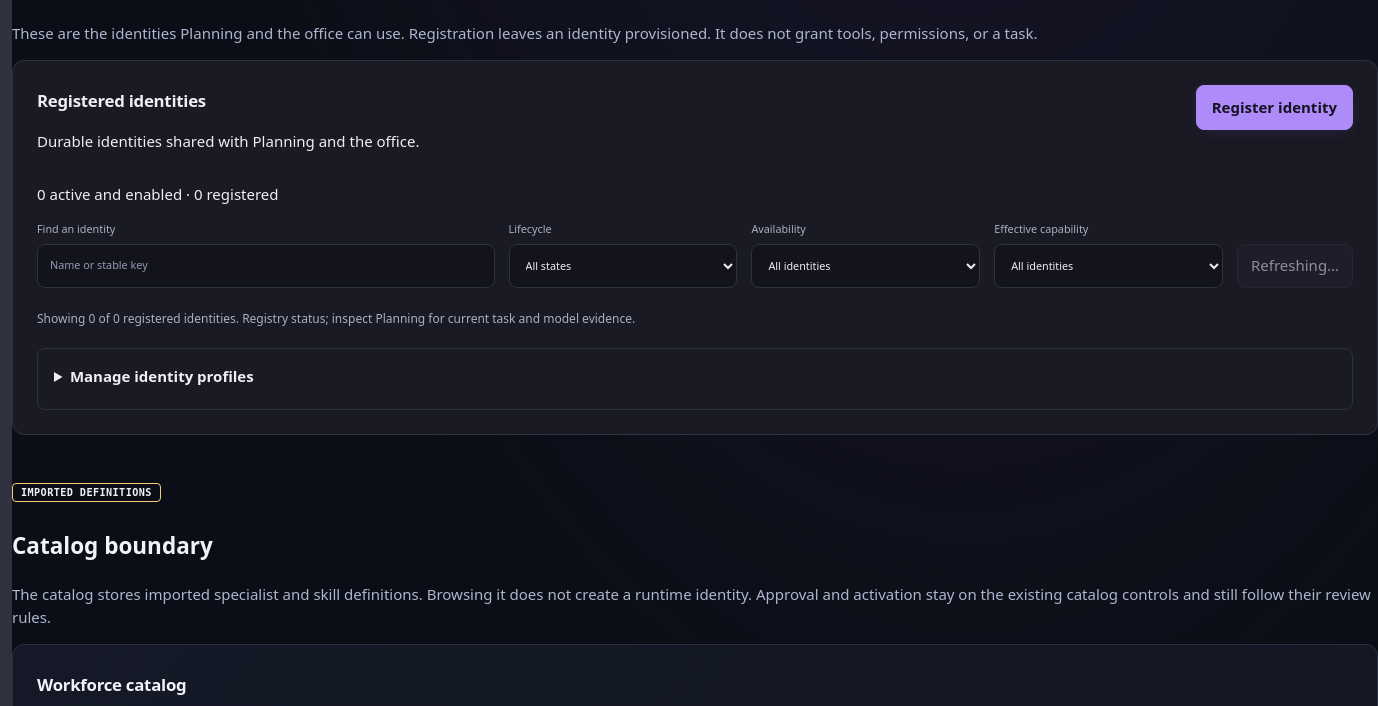
Test: durable workforce › unknown registration acknowledgement recovers by unique key without duplicate writes
The width and height of the screenshot is (1378, 706).
(page scrolled)
Click the heading "Manage identity profiles" at (162, 376), box [70,366,254,386]
(page scrolled)
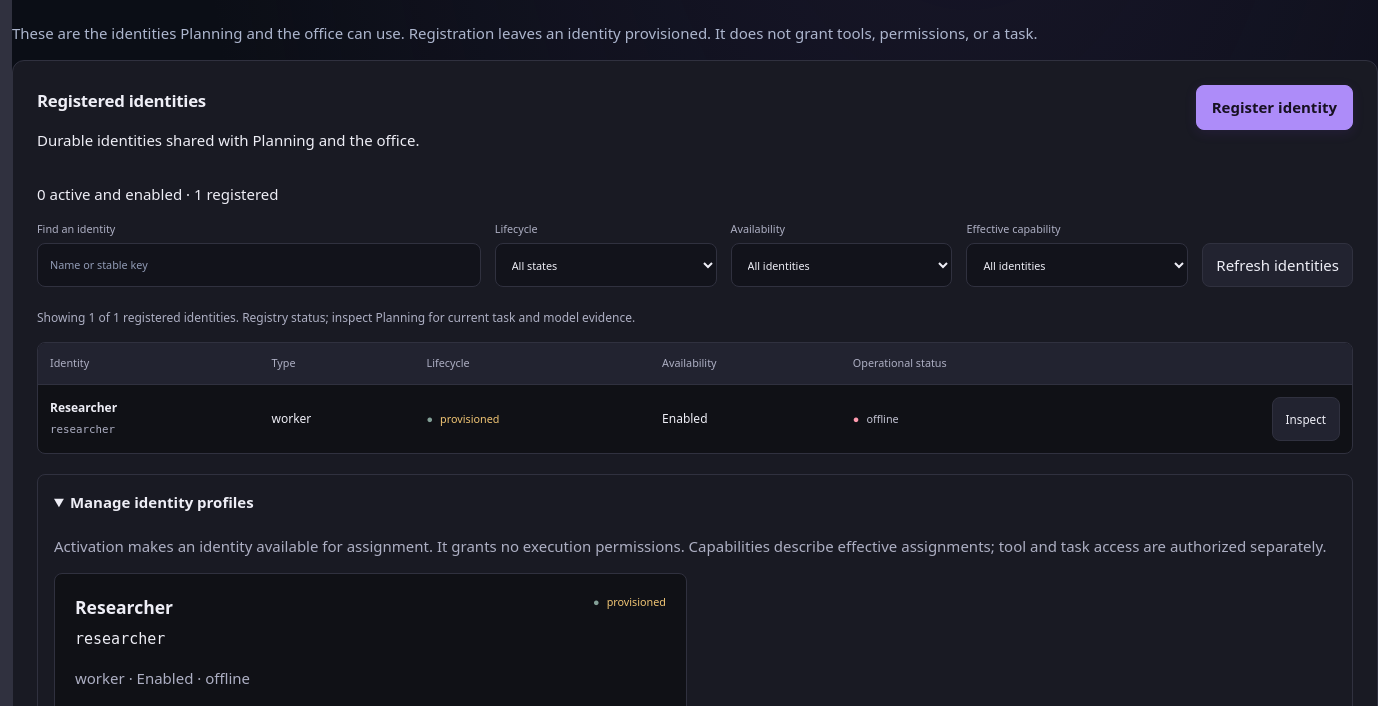
Click the button "Register identity" at (1274, 108), box [1196,85,1353,130]
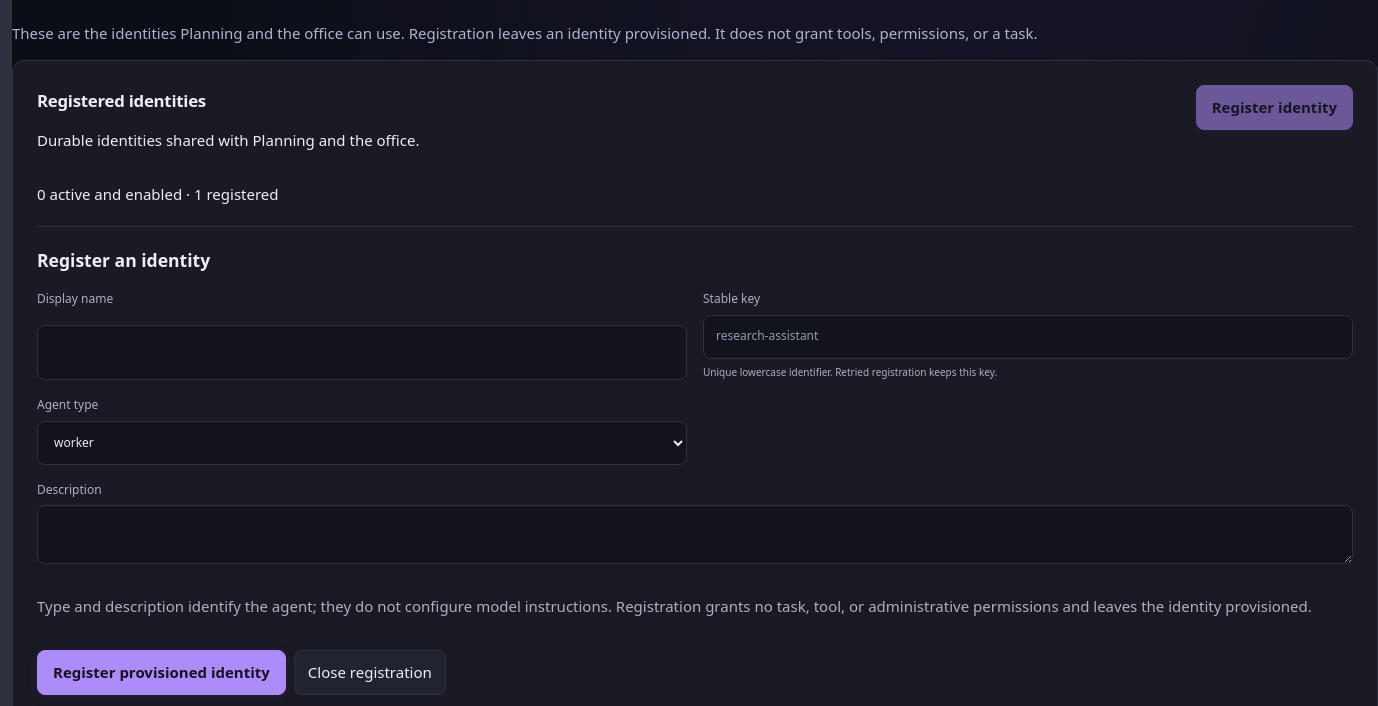
Type "Analyst" into the field labelled "Display name" at (362, 353), box [37,325,687,380]
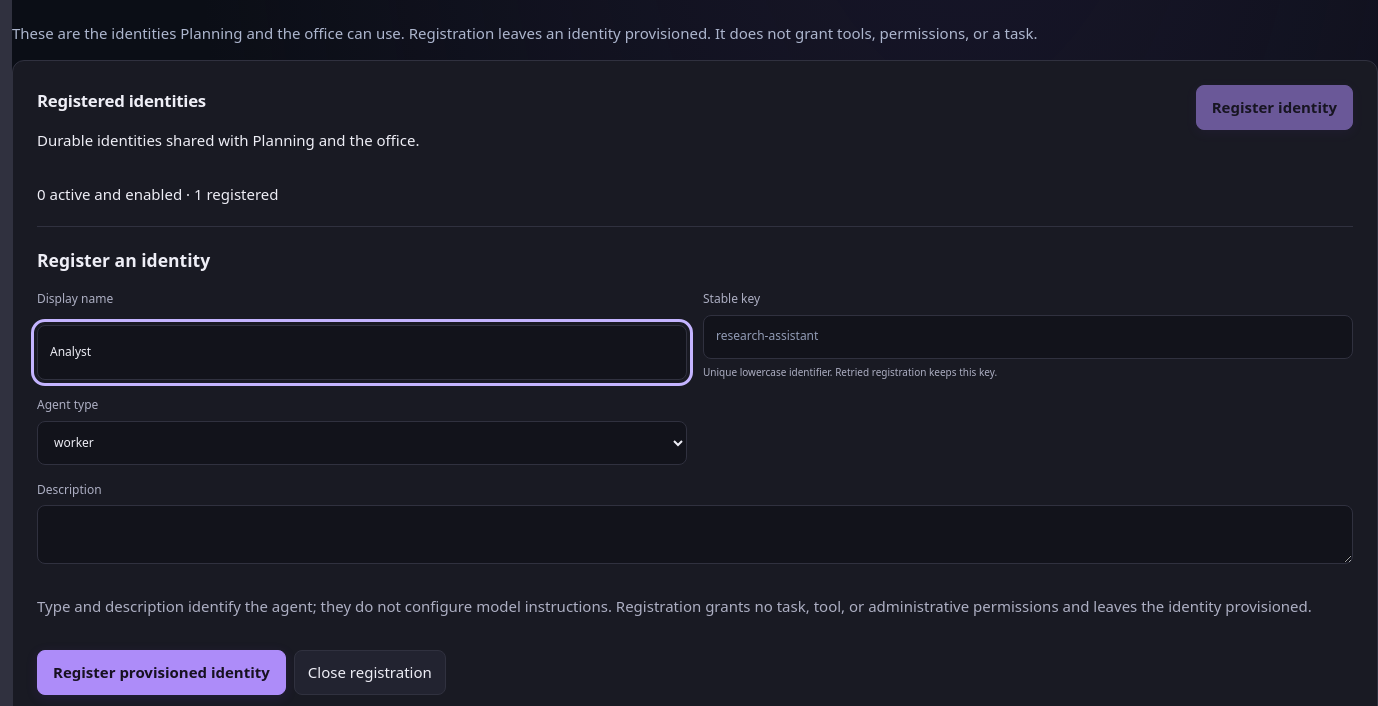
Type "analyst" into the field labelled "Stable key" at (1028, 336), box [703,314,1353,358]
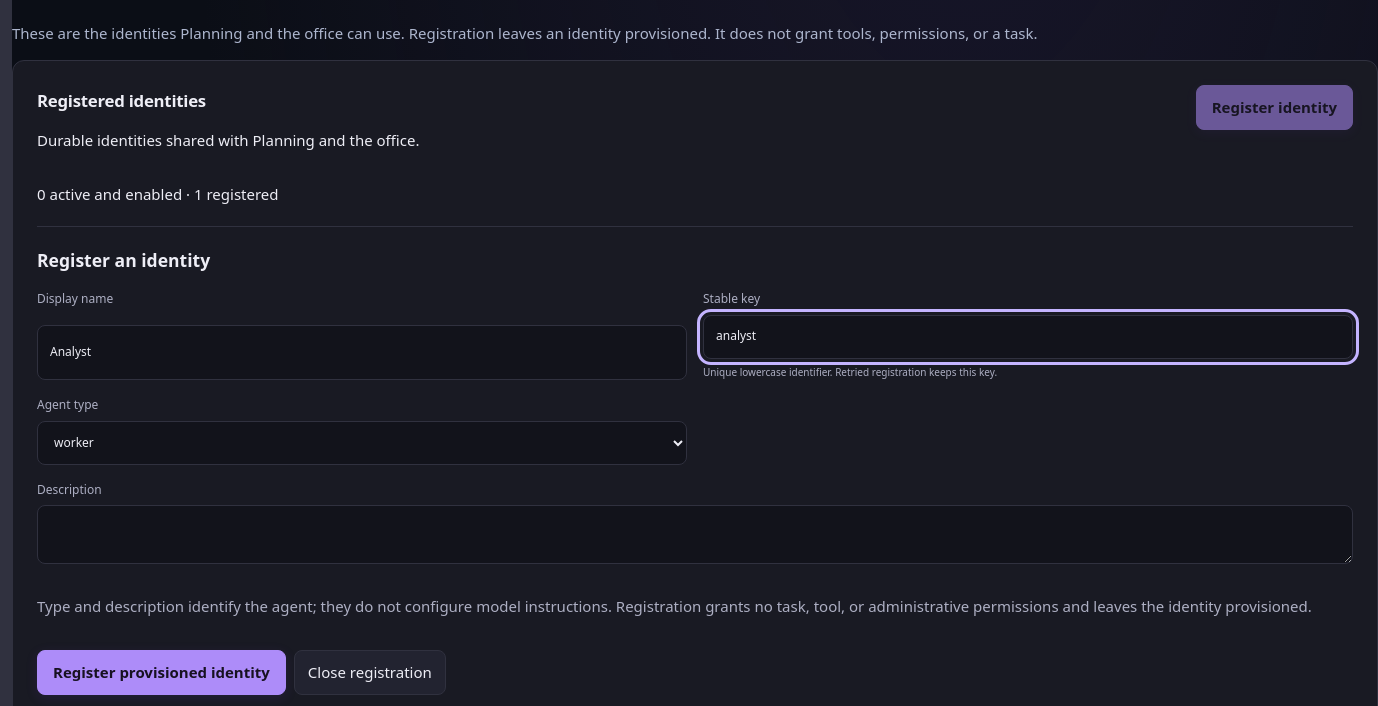
Type "Bounded research" into the text box labelled "Description" at (695, 535), box [37,505,1353,564]
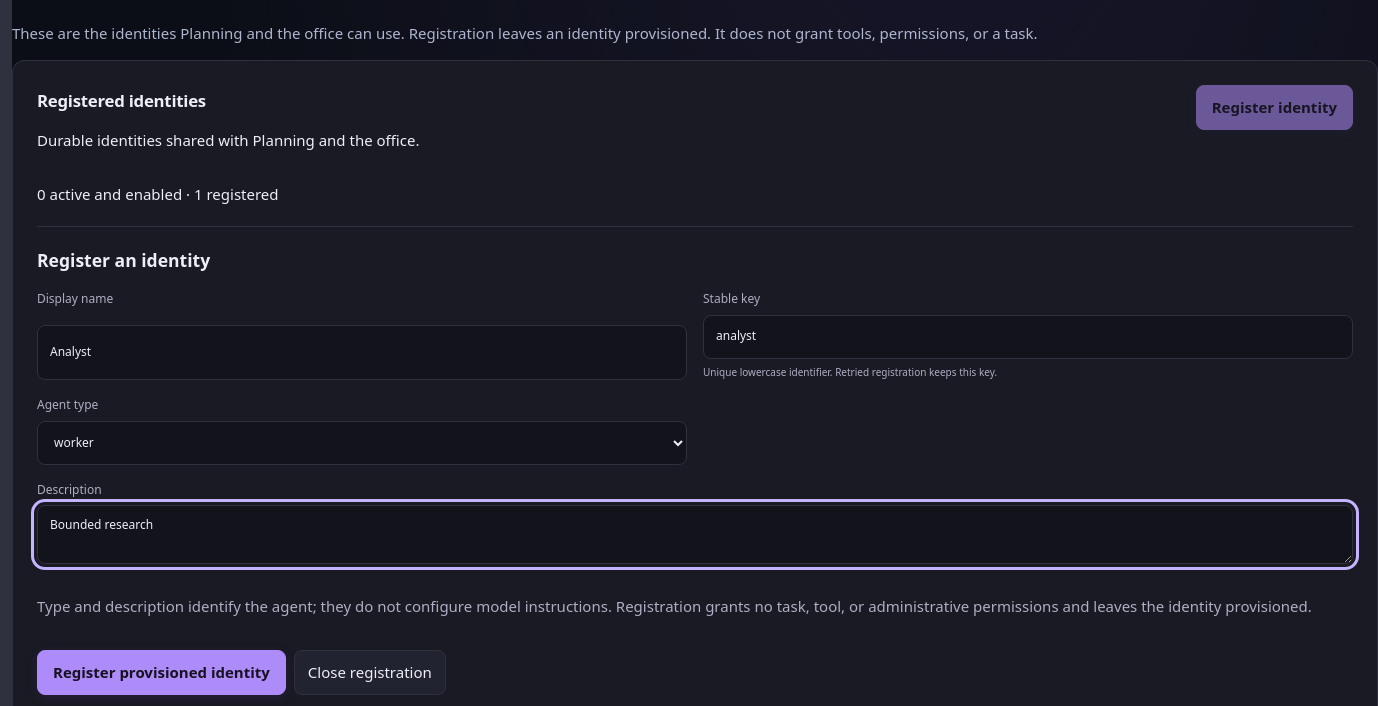
Click the button "Register provisioned identity" at (161, 672), box [37,650,286,695]
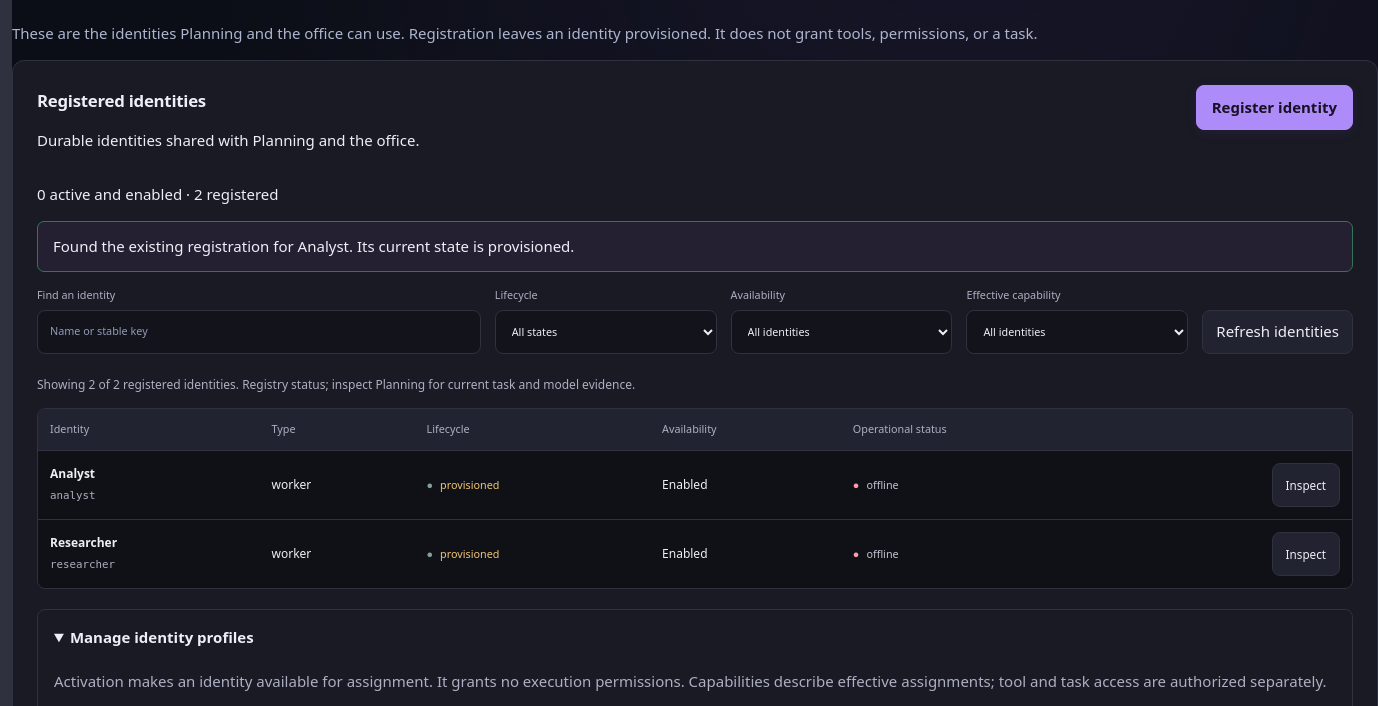
Expected: the text "Found the existing registration for Analyst. Its current state is provisioned." is shown, [37,221,1353,272]
